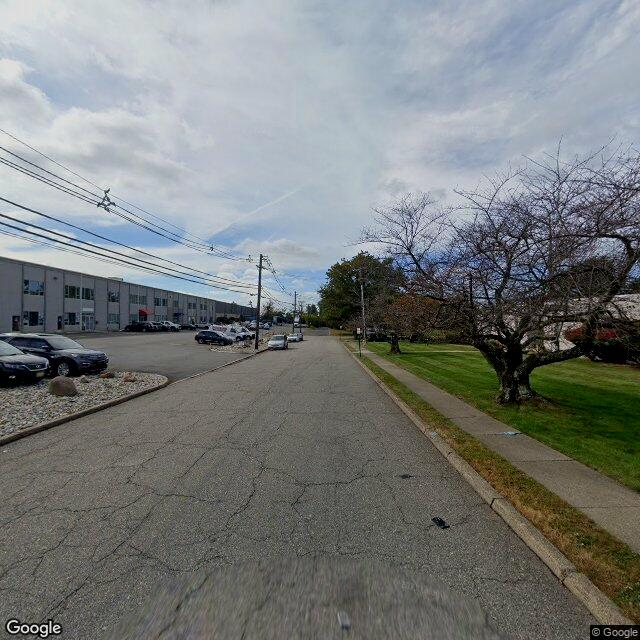pothole: (424, 508, 456, 536)
